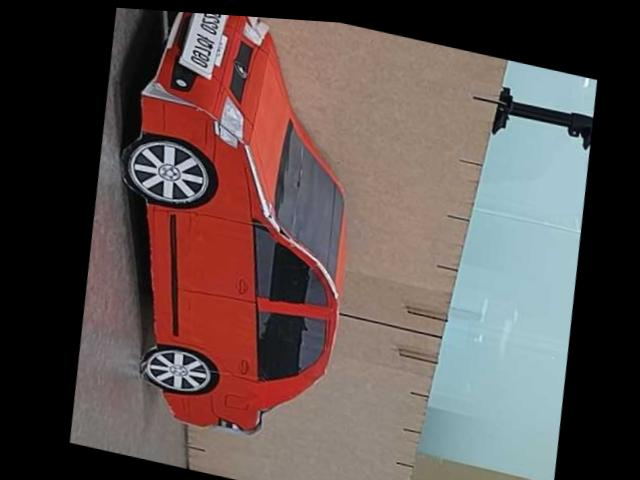car: (72, 5, 394, 461)
id: (174, 12, 230, 81)
